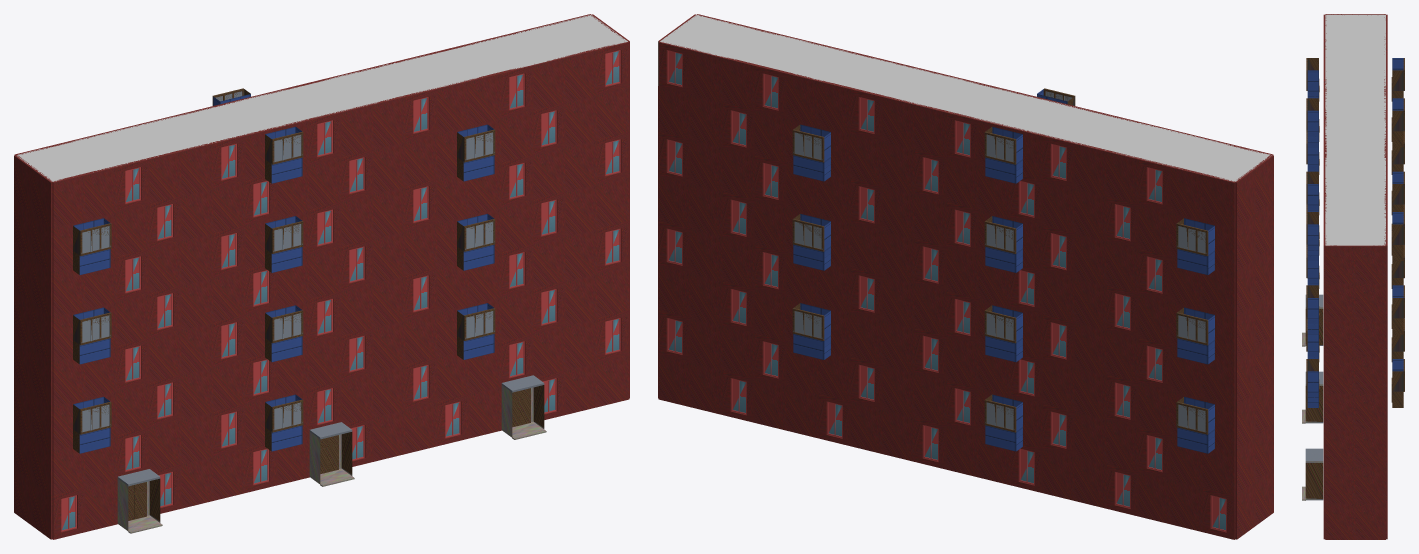
Rendered from house.obj.
The picture shows the model from 3 angles, left to right: view 1: azimuth 30°, elevation 25°; view 2: azimuth 150°, elevation 25°; view 3: azimuth 270°, elevation 25°; orthographic projection. The views are drawn at different scales.
Visible parts, largest first — view 1: geometry_0, geometry_189, geometry_188, geometry_187, geometry_199, geometry_191, geometry_192, geometry_193, geometry_194, geometry_196, geometry_197, geometry_190 (+146 smaller); view 2: geometry_0, geometry_395, geometry_387, geometry_388, geometry_389, geometry_390, geometry_392, geometry_393, geometry_386, geometry_391, geometry_394, geometry_362 (+149 smaller); view 3: geometry_0, geometry_414, geometry_420, geometry_422, geometry_426, geometry_421, geometry_427, geometry_415, geometry_423, geometry_412, geometry_413, geometry_416 (+27 smaller).
Part boxes in pixels (x1,y1,x2,y2): geometry_0: (17, 15, 627, 181); geometry_189: (501, 375, 546, 439); geometry_188: (309, 422, 354, 486); geometry_187: (117, 469, 162, 533); geometry_199: (265, 126, 303, 183); geometry_191: (73, 396, 111, 453); geometry_192: (457, 303, 495, 359); geometry_193: (265, 305, 303, 362); geometry_194: (73, 307, 111, 364); geometry_196: (265, 216, 303, 272); geometry_197: (73, 218, 111, 274); geometry_190: (265, 394, 303, 451); geometry_0: (660, 14, 1271, 181); geometry_395: (984, 126, 1022, 183); geometry_387: (1176, 396, 1214, 453); geometry_388: (792, 303, 830, 359); geometry_389: (984, 305, 1022, 362); geometry_390: (1176, 307, 1214, 364); geometry_392: (984, 216, 1022, 272); geometry_393: (1176, 218, 1214, 274); geometry_386: (984, 394, 1022, 451); geometry_391: (792, 213, 830, 270); geometry_394: (792, 124, 830, 181); geometry_362: (1202, 174, 1235, 227); geometry_0: (1325, 14, 1385, 245); geometry_414: (1325, 466, 1355, 503); geometry_420: (1325, 356, 1355, 393); geometry_422: (1325, 319, 1355, 356); geometry_426: (1325, 245, 1355, 282); geometry_421: (1355, 356, 1385, 393); geometry_427: (1355, 245, 1385, 282); geometry_415: (1355, 466, 1385, 503); geometry_423: (1355, 319, 1385, 356); geometry_412: (1325, 503, 1355, 539); geometry_413: (1355, 503, 1385, 539); geometry_416: (1325, 430, 1355, 466).
Size of the model in its own units: 54.3 by 32 by 10.17.
